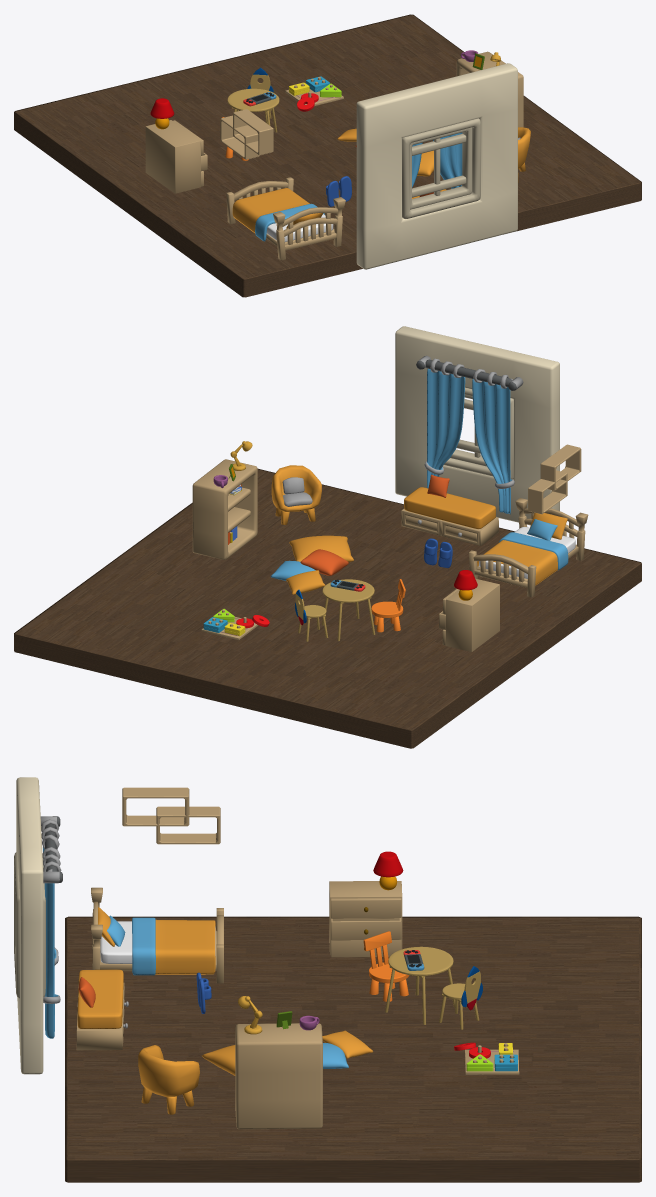
Rendered from bedroom_small.fbx.
3 views of the same model, one above another, from view 1: azimuth 30°, elevation 25°; view 2: azimuth 150°, elevation 25°; view 3: azimuth 270°, elevation 25° (orthographic). The views are drawn at different scales.
Visible parts, largest first — view 1: Floor, window.001, Bed frame.003, nightstand, Wallshelf, 圆环.004, cabinet_01.001, table, Cushion, slipper, lamp, chair.001 (+1 smaller); view 2: Floor, window.001, Bed frame.003, cabinet_01.001, Pillow.002, nightstand, Cushion, chair.001, Wallshelf, 圆环.004, table, sedia_arancio (+2 smaller); view 3: Floor, window.001, cabinet_01.001, Bed frame.003, nightstand, Pillow.002, Wallshelf, chair.001, Cushion, table, 圆环.004, sedia_arancio (+2 smaller).
Boxes of the visible parts, x1,y1,x2,y2 form: Floor: (14, 14, 641, 297); window.001: (356, 63, 517, 269); Bed frame.003: (226, 177, 345, 260); nightstand: (145, 120, 207, 193); Wallshelf: (220, 109, 273, 159); 圆环.004: (285, 76, 343, 111); cabinet_01.001: (456, 51, 523, 127); table: (227, 88, 279, 132); Cushion: (337, 128, 433, 176); slipper: (326, 176, 351, 206); lamp: (150, 98, 174, 129); chair.001: (518, 127, 530, 182); Floor: (14, 468, 641, 748); window.001: (395, 326, 559, 525); Bed frame.003: (468, 498, 588, 597); cabinet_01.001: (192, 459, 257, 559); Pillow.002: (401, 474, 498, 545); nightstand: (439, 578, 499, 651); Cushion: (270, 535, 353, 594); chair.001: (271, 465, 321, 524); Wallshelf: (528, 444, 581, 514); 圆环.004: (201, 608, 269, 640); table: (321, 579, 375, 641); sedia_arancio: (371, 579, 405, 632); Floor: (65, 916, 641, 1182); window.001: (14, 777, 62, 1074); cabinet_01.001: (235, 1011, 322, 1129); Bed frame.003: (91, 887, 223, 983); nightstand: (329, 881, 402, 957); Pillow.002: (76, 969, 128, 1050); Wallshelf: (122, 787, 220, 844); chair.001: (138, 1045, 199, 1114); Cushion: (202, 1030, 373, 1075); table: (385, 946, 455, 1024); 圆环.004: (454, 1042, 519, 1074); sedia_arancio: (363, 931, 409, 1001).
Size of the model in its own units: 2145 by 922 by 2335.
35 materials, 1 textured.
